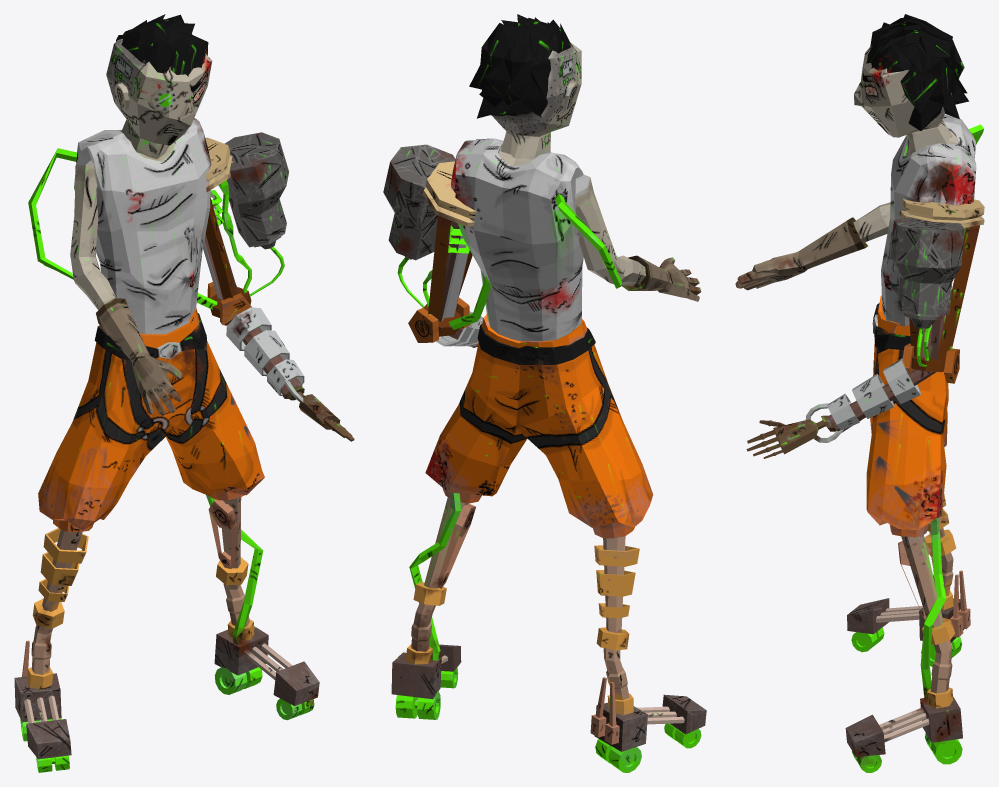
Rendered from CyborgFINALAnimation_000030.obj.
The picture shows the model from 3 angles, left to right: view 1: azimuth 30°, elevation 25°; view 2: azimuth 150°, elevation 25°; view 3: azimuth 270°, elevation 25°; orthographic projection. The views are drawn at different scales.
Parts seen in each view (by area): view 1: CyborgMesh_Cube.002; view 2: CyborgMesh_Cube.002; view 3: CyborgMesh_Cube.002.
Part boxes in pixels (box(x1,y1,x2,y2)): CyborgMesh_Cube.002: box(14, 14, 354, 772); CyborgMesh_Cube.002: box(383, 14, 706, 772); CyborgMesh_Cube.002: box(735, 14, 984, 772).
Bounding box in the file's own units: 4.02 × 9.65 × 3.14.
